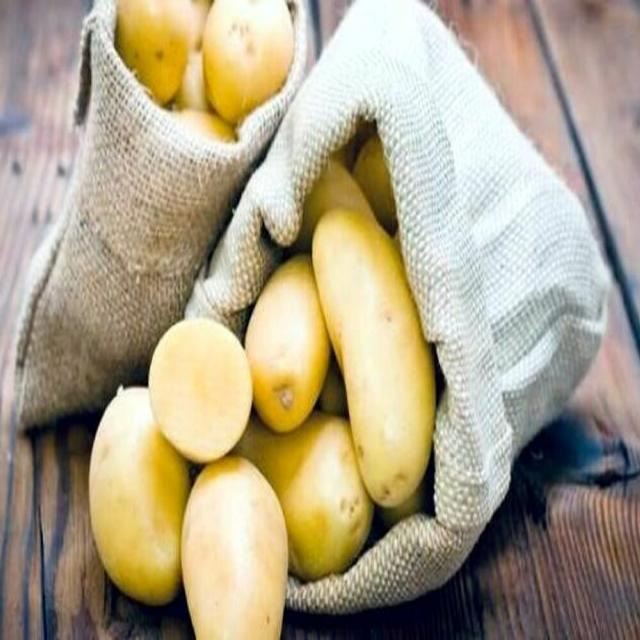Potato: (310, 208, 444, 509), (83, 368, 208, 606), (179, 452, 301, 640), (152, 310, 264, 459)
